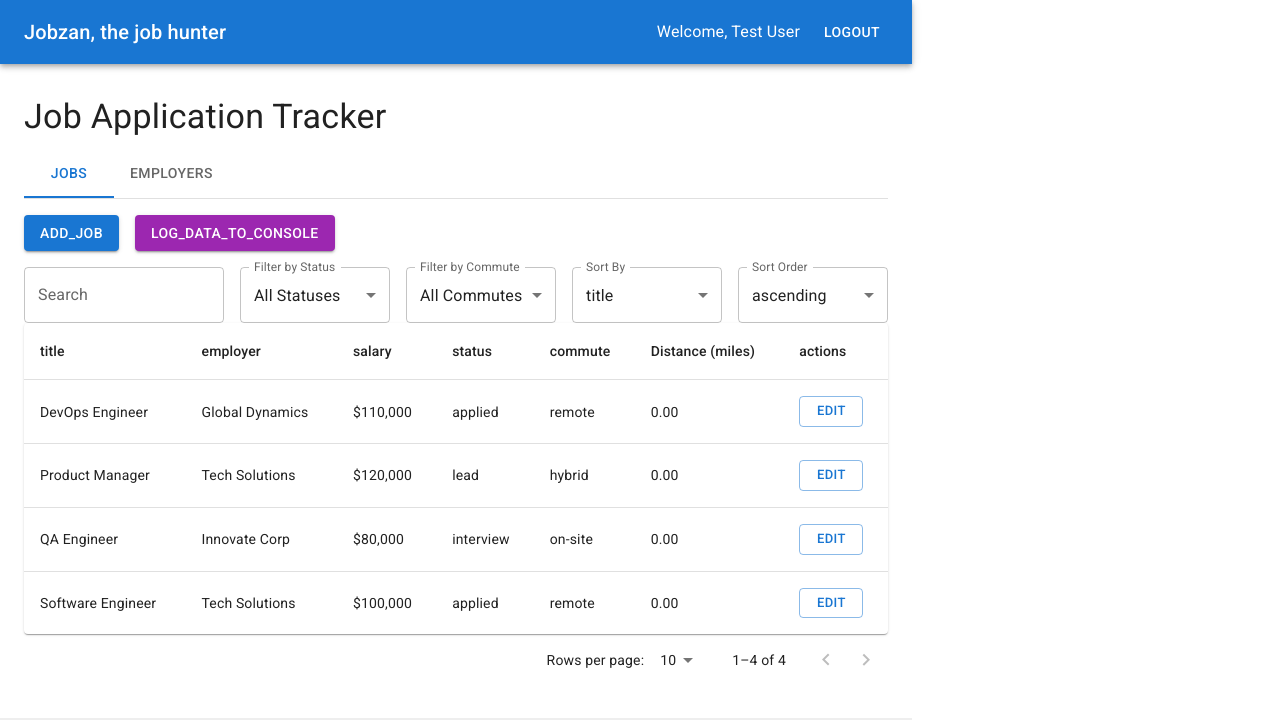
Test: App › filters jobs by status
Click the dropdown named "Filter by Status": (297, 295) [254,286,340,305]
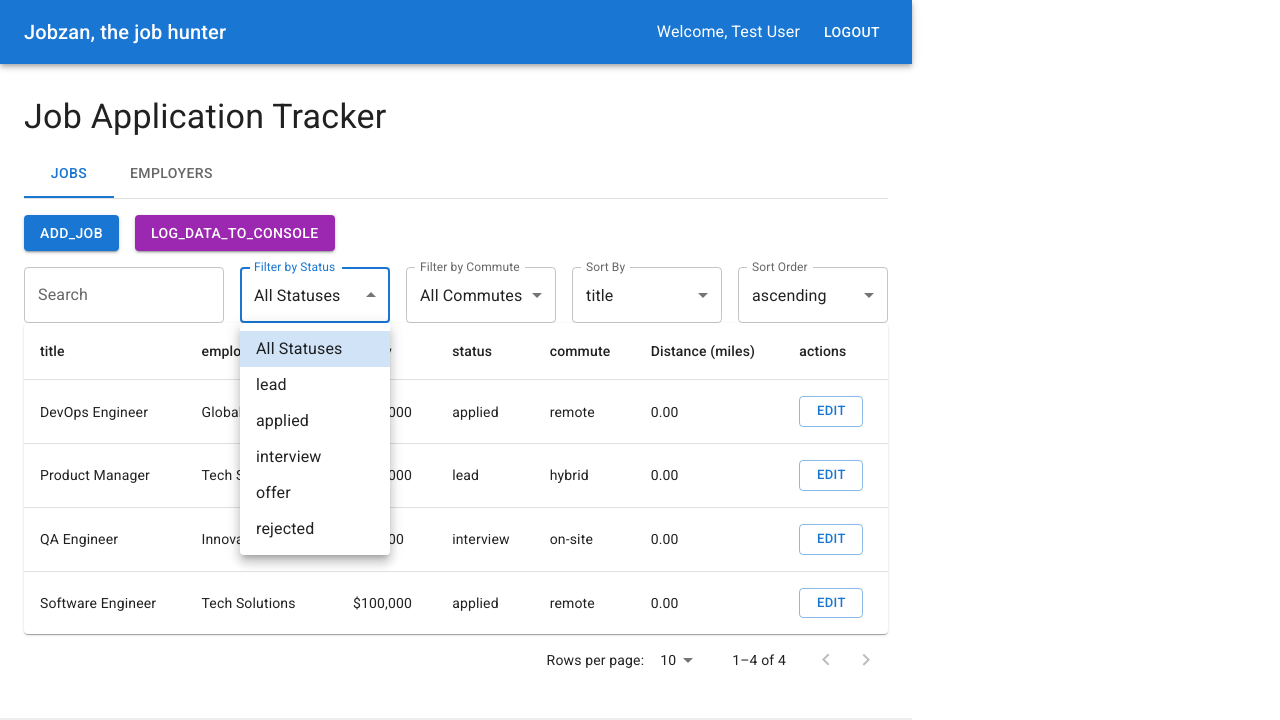
Click the option "lead": (271, 384) [256,375,287,394]
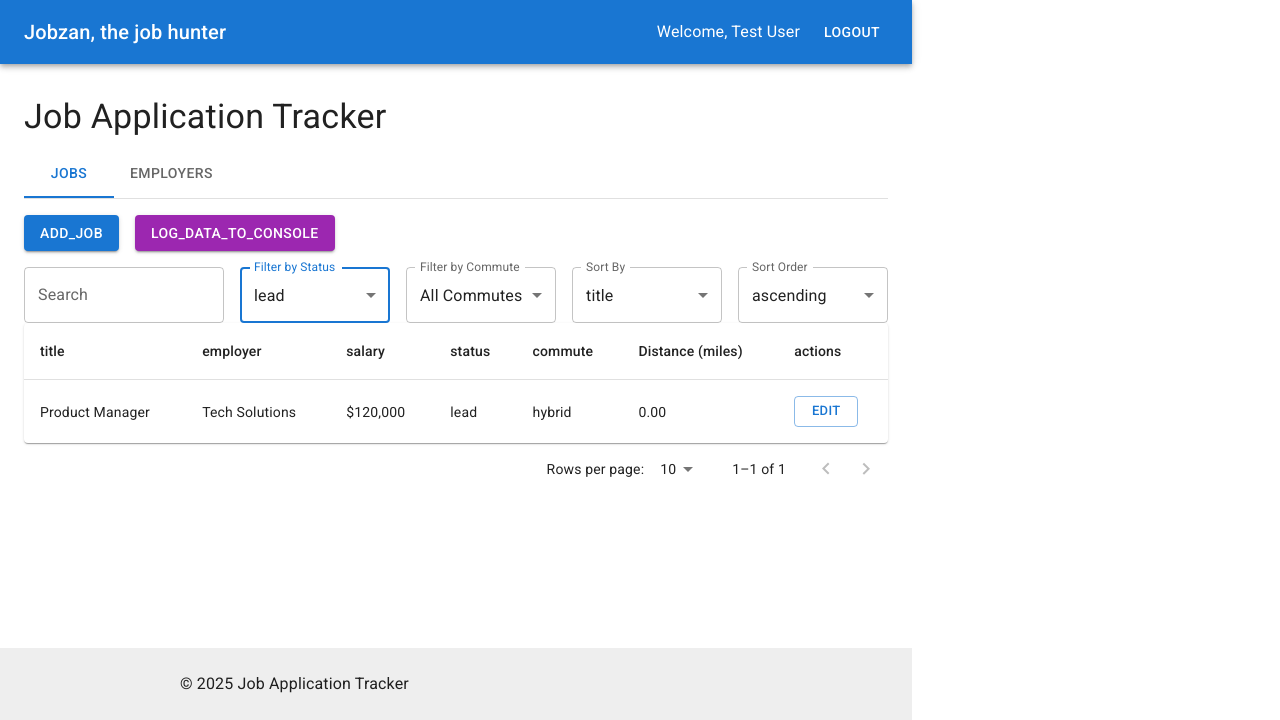
Check: the column heading "Product Manager" is shown, box [24,380,186,443]
Check: the column heading "Software Engineer" is gone
